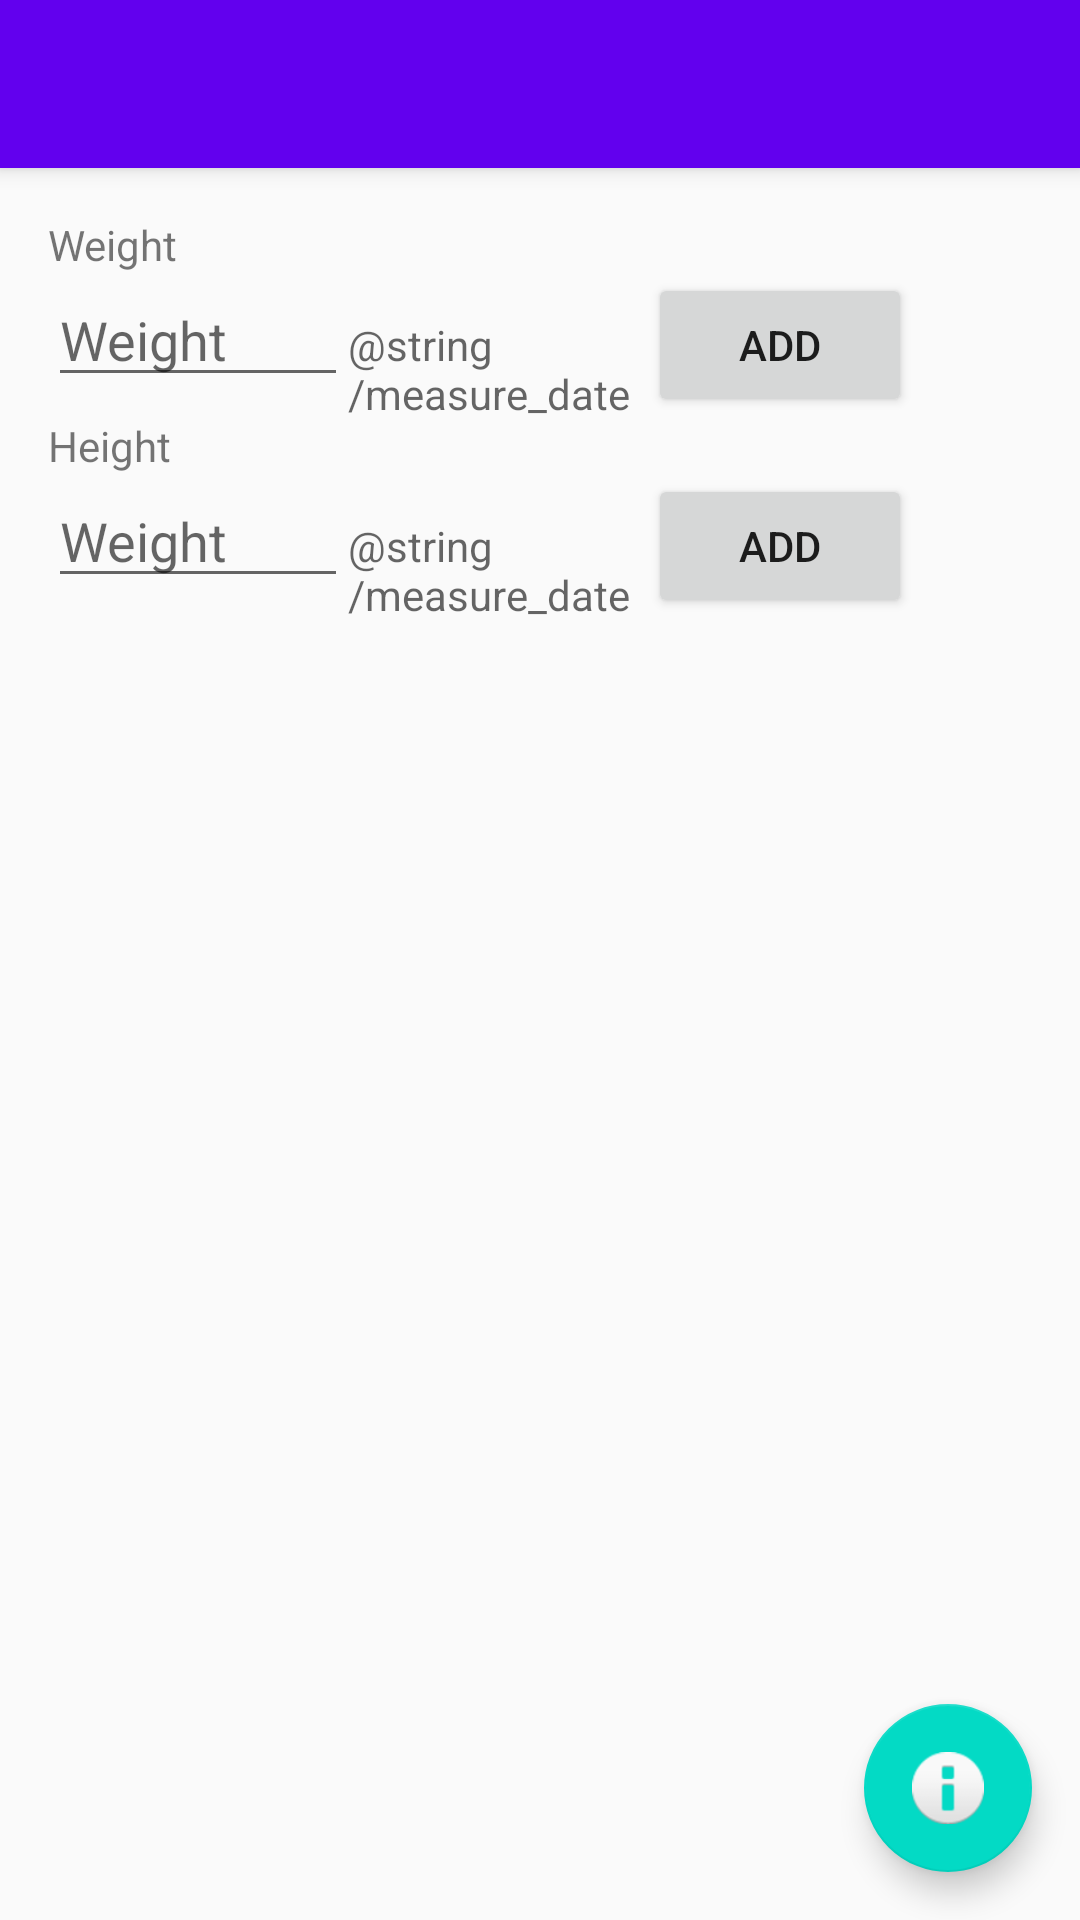

Where icons sit on this 1080px×1920px app screen, as (x1, y1, x2, y2):
info: (864, 1704, 1032, 1872)
